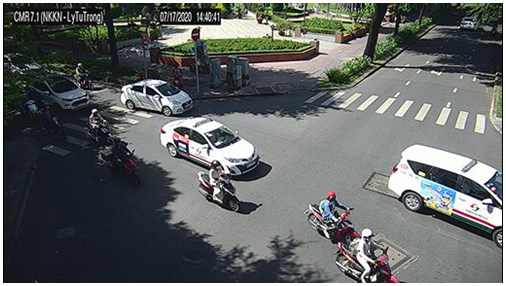xe_hoi: (25, 73, 90, 117), (120, 79, 193, 117), (461, 16, 480, 30)
xe_may: (333, 227, 400, 283), (303, 191, 361, 244), (196, 160, 241, 212), (101, 136, 141, 187), (85, 108, 115, 147), (40, 102, 69, 139), (16, 90, 38, 119), (73, 63, 95, 91)
xe_taxi: (387, 143, 503, 249), (160, 117, 261, 177)
